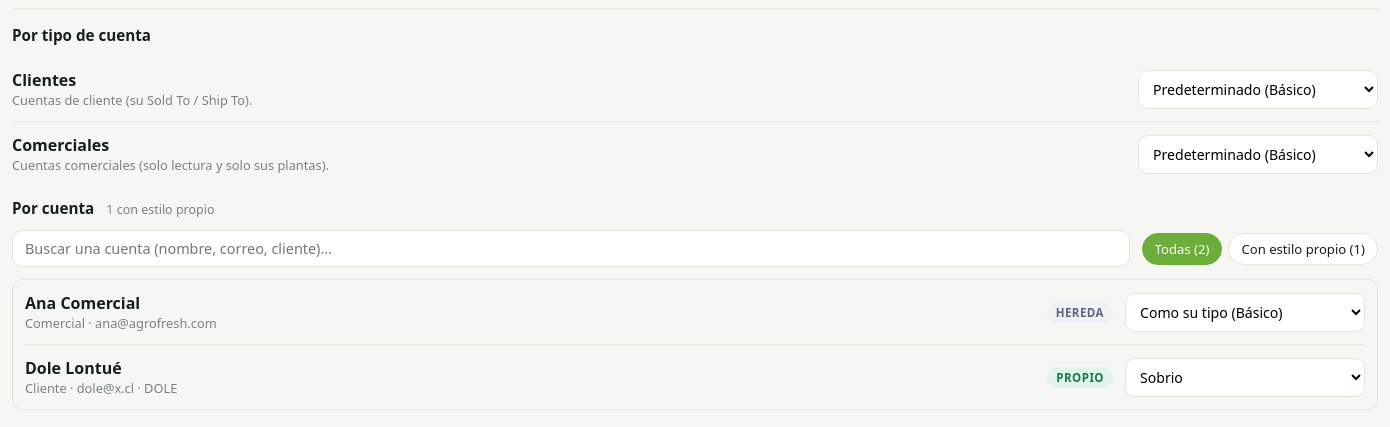
EstiloPorCuenta › el buscador filtra por nombre
Type "ana" into the search field at (571, 248), box x1=12 y1=230 x2=1130 y2=267
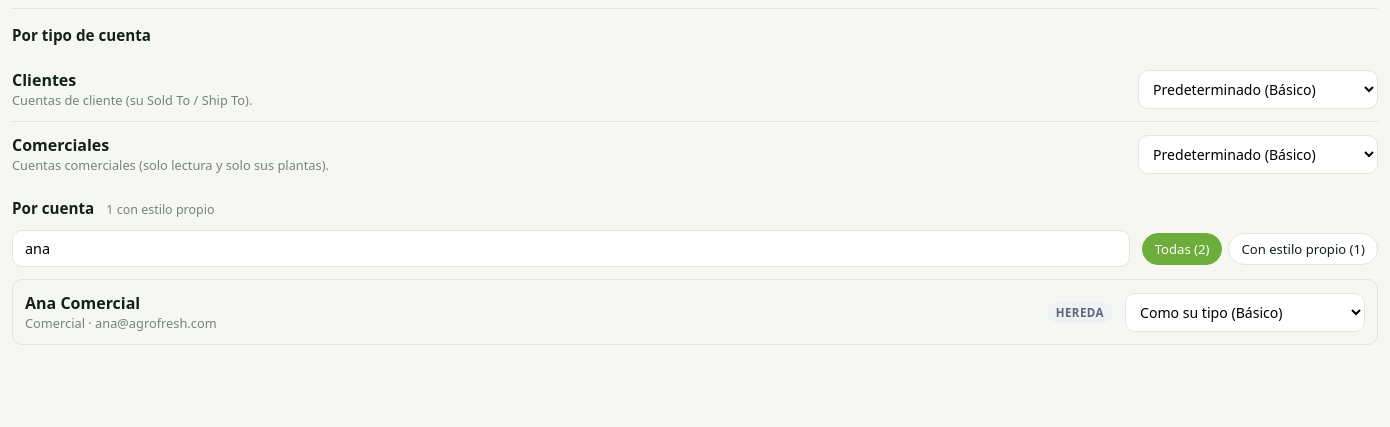
Expected: the text "Ana Comercial" is shown, x1=25 y1=292 x2=140 y2=314
Result: the text "Dole Lontué" is gone
